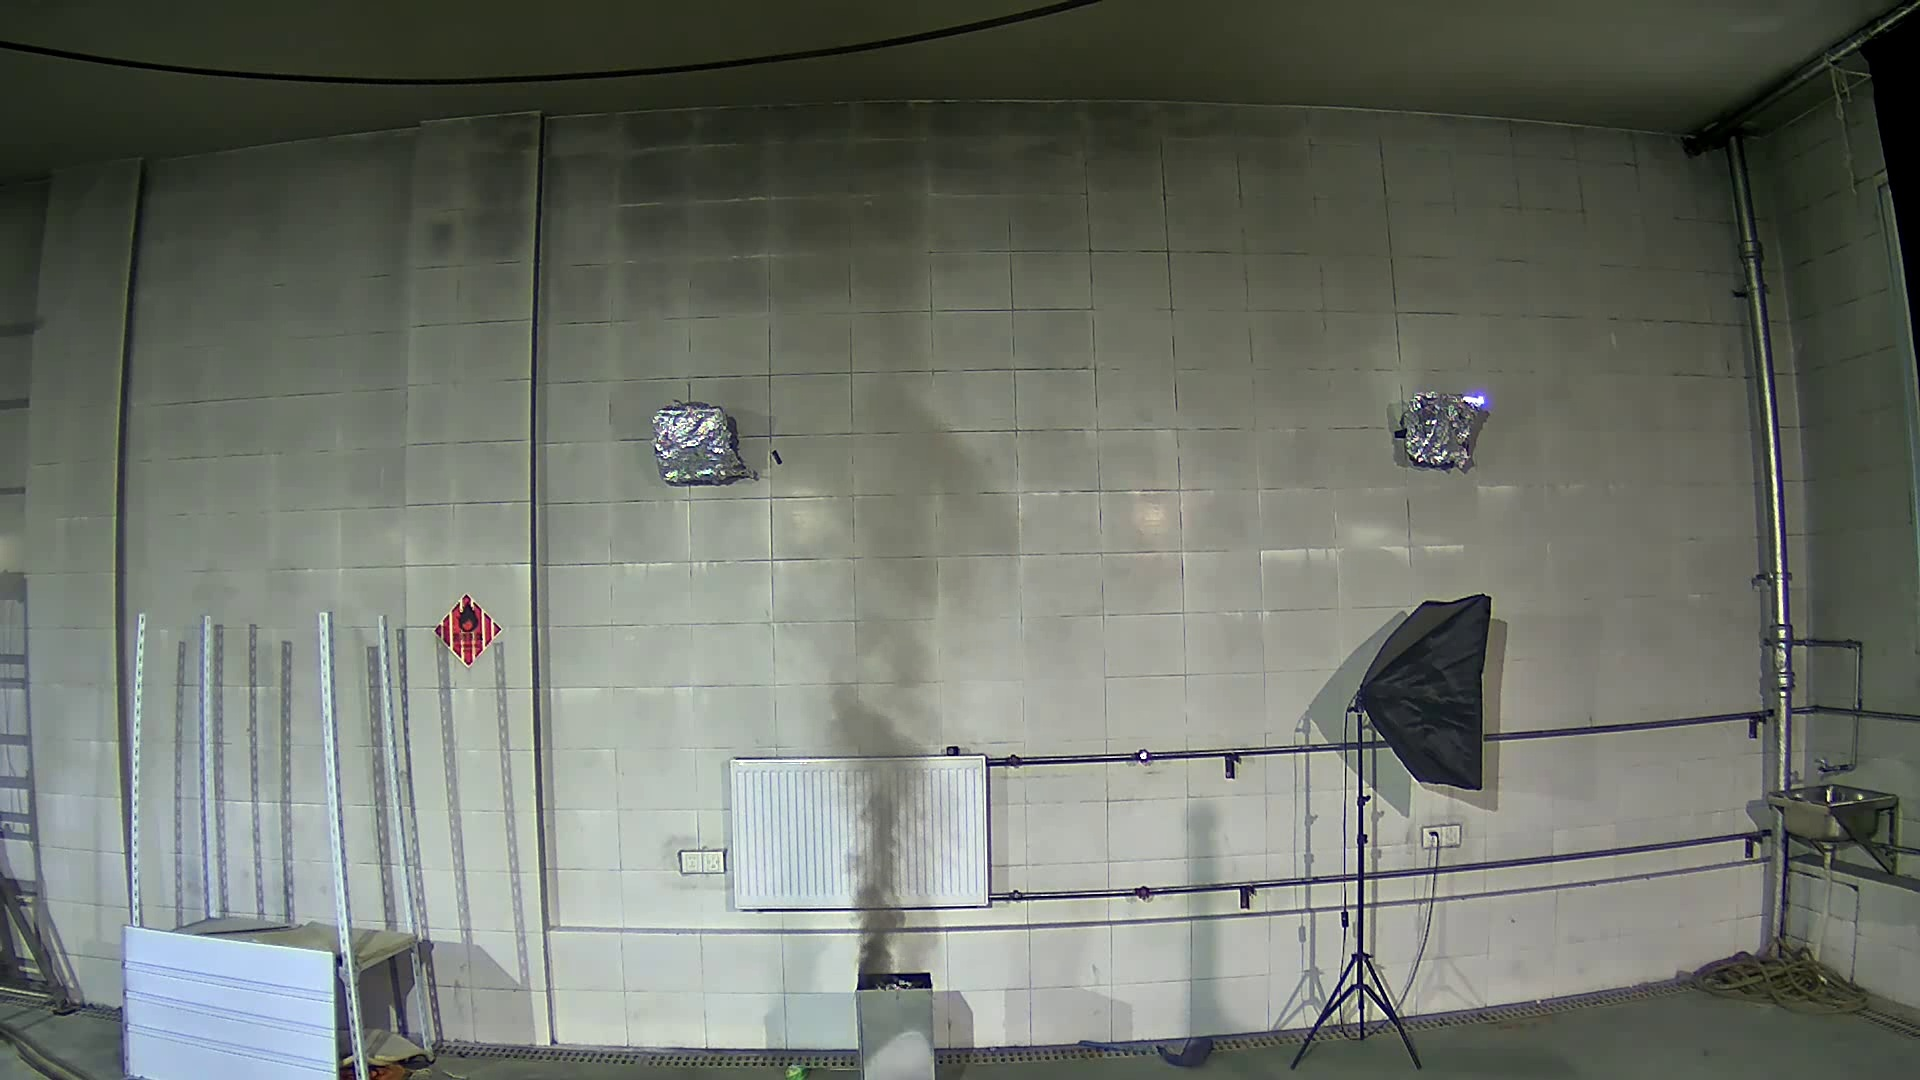smoke: (756, 384, 1048, 986)
